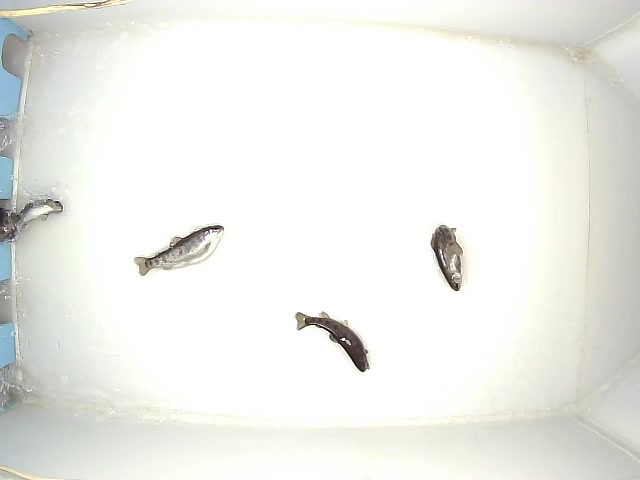fish: (295, 311, 370, 373), (134, 225, 224, 276), (430, 225, 463, 291), (9, 199, 63, 233)
